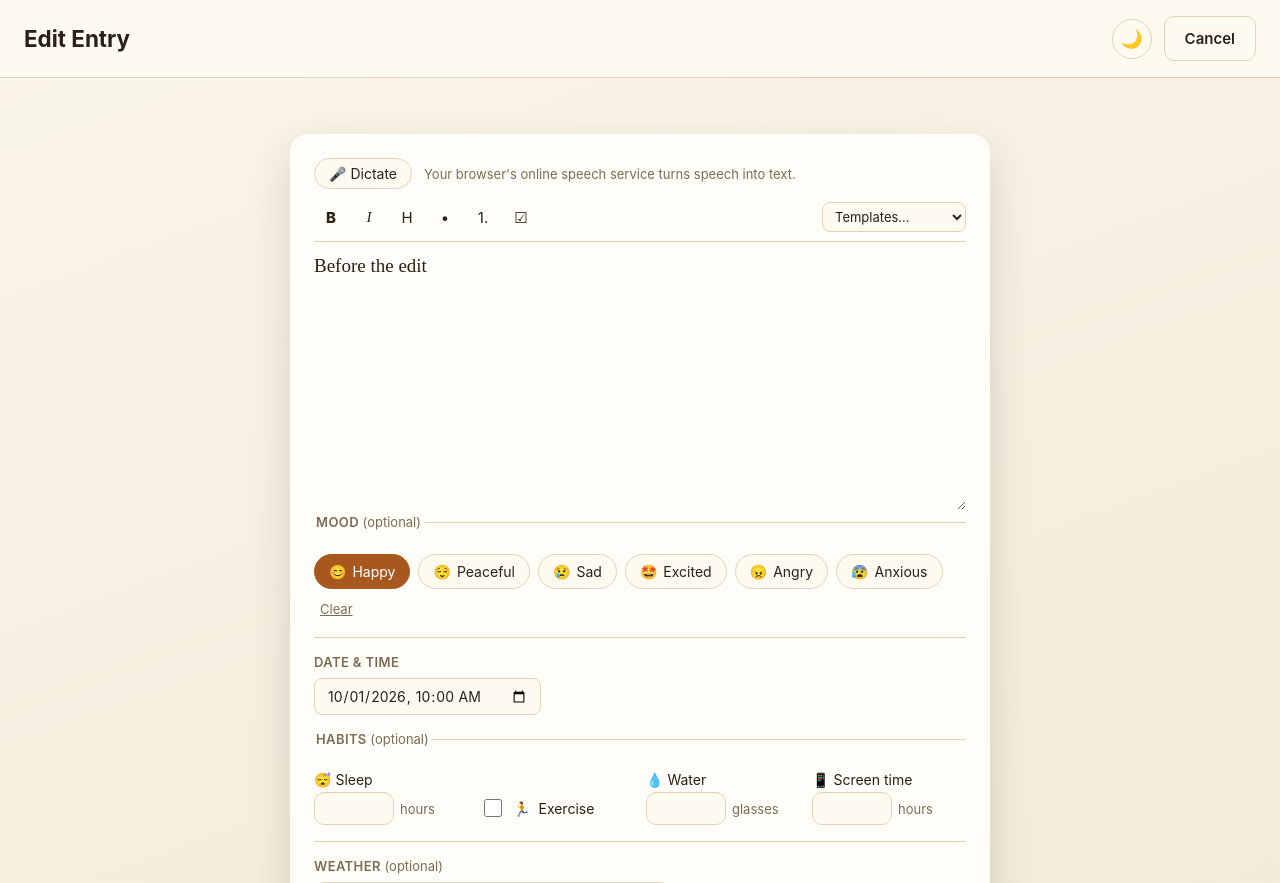
Scenario: Earlier versions › records the earlier writing when an entry is edited and saved
Replace the text in the text box named "what's on your mind" with "After the edit" at (640, 380), box [314, 250, 966, 510]
(page scrolled)
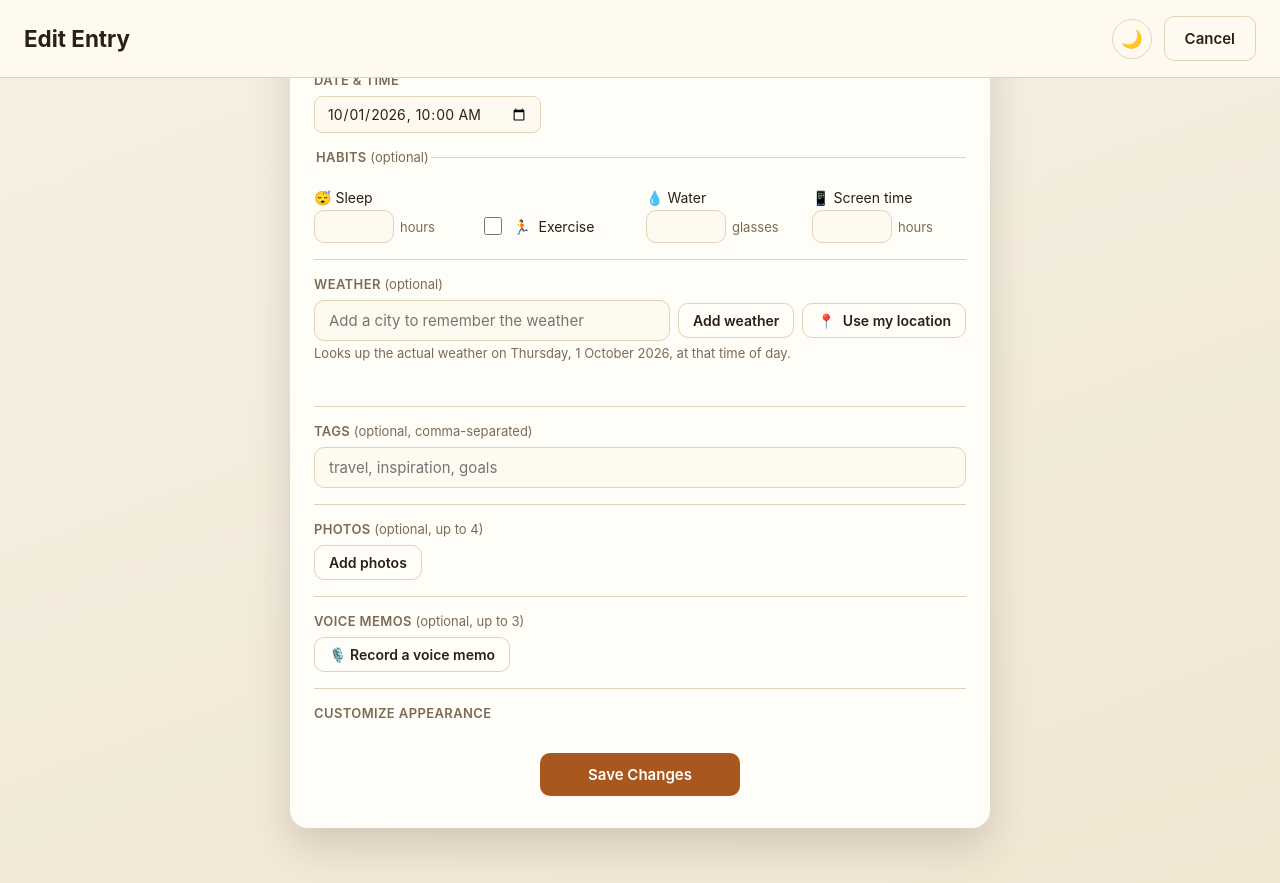
Click the button "Save Changes" at (640, 774), box [540, 753, 740, 796]
(page scrolled)
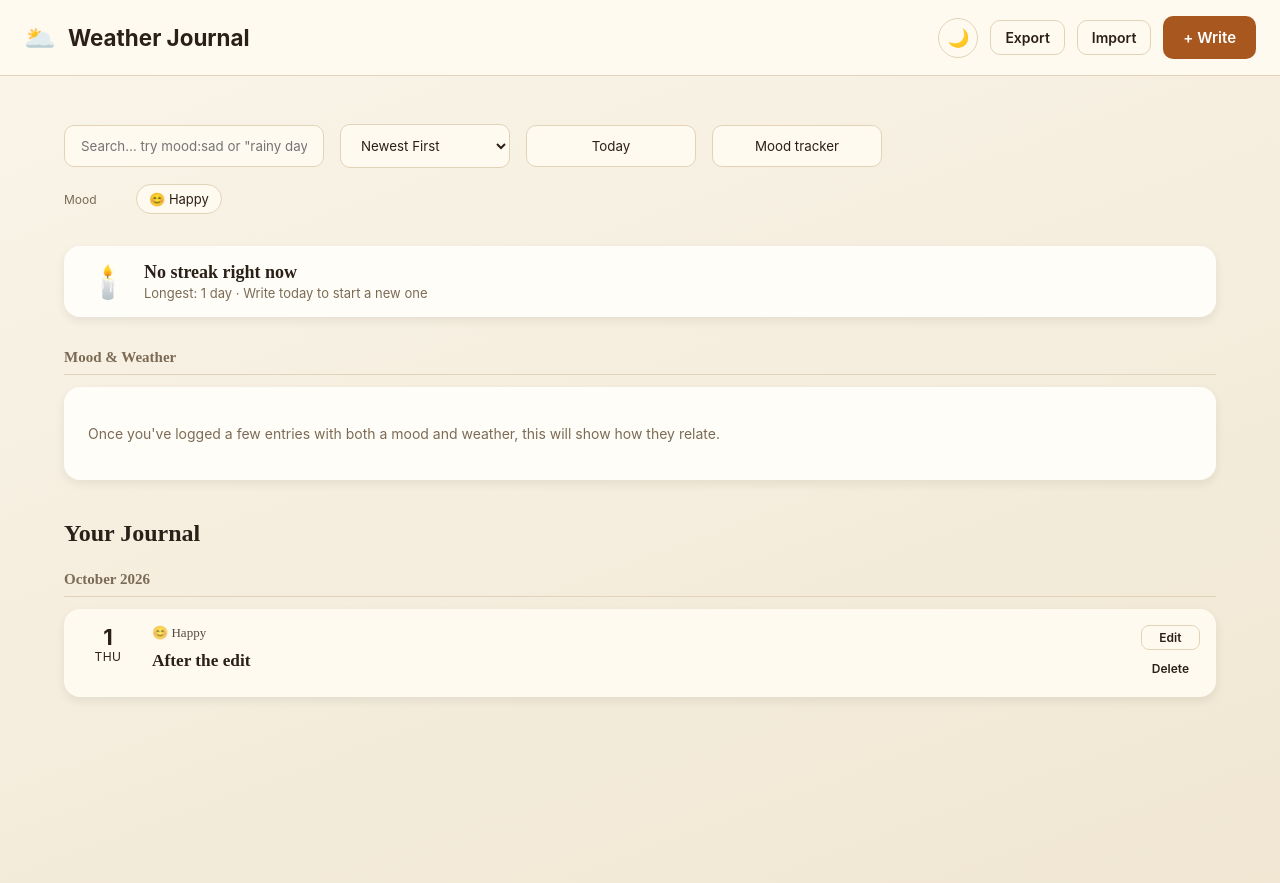
Check: the text "After the edit" is shown, box [152, 651, 250, 670]
